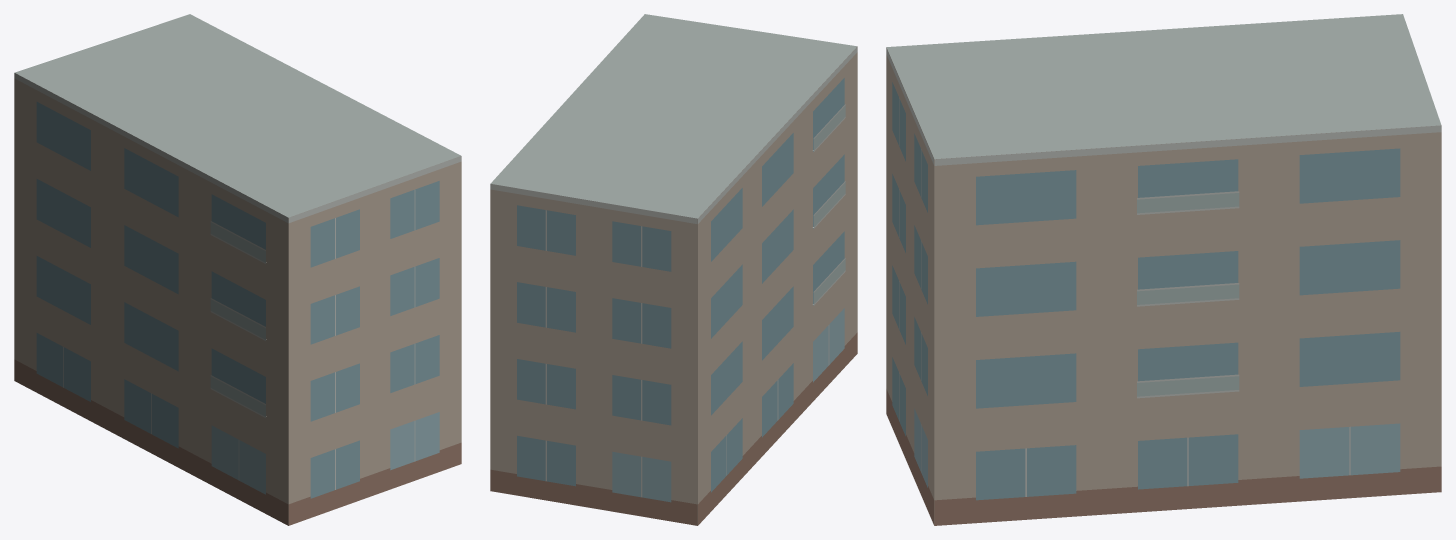
The model's file is survey-upis-32743184.glb.
3 views of the same model, side by side, from view 1: azimuth 30°, elevation 25°; view 2: azimuth 150°, elevation 25°; view 3: azimuth 270°, elevation 25° (orthographic). The views are drawn at different scales.
Visible parts, largest first — view 1: survey-upis-32743184.tmp; view 2: survey-upis-32743184.tmp; view 3: survey-upis-32743184.tmp.
Part boxes in pixels (bbox=[...]): survey-upis-32743184.tmp: bbox=[14, 14, 461, 525]; survey-upis-32743184.tmp: bbox=[490, 14, 857, 525]; survey-upis-32743184.tmp: bbox=[886, 14, 1441, 525].
Bounding box in the file's own units: 11.22 × 13.2 × 18.12.
